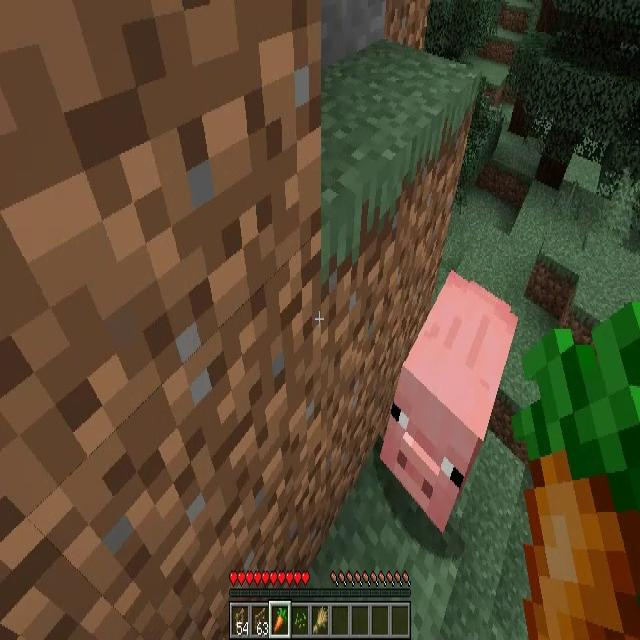pig: (379, 269, 518, 534)
